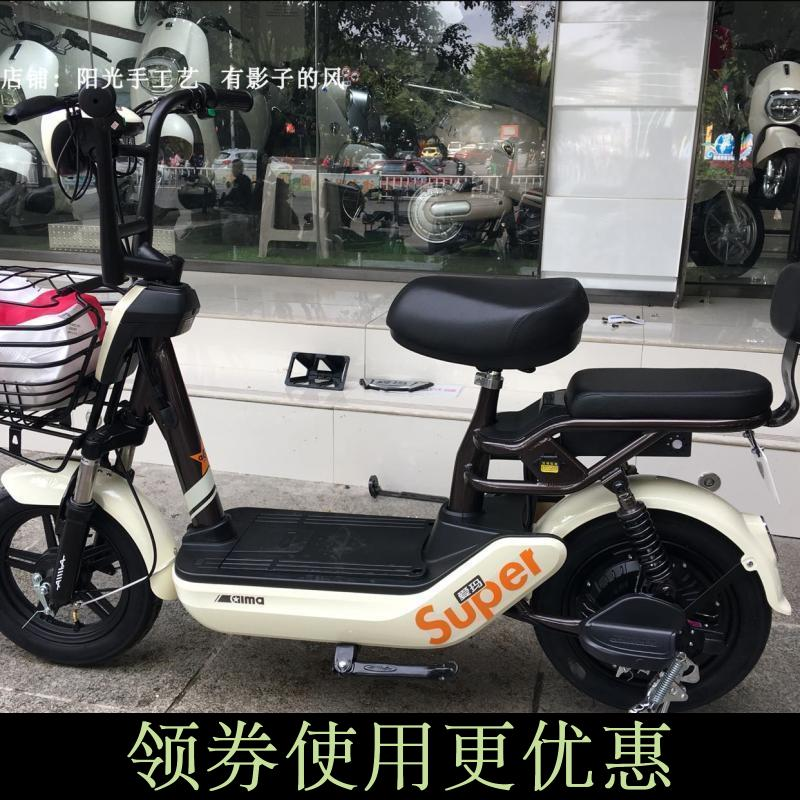电动车: (1, 60, 792, 714)
